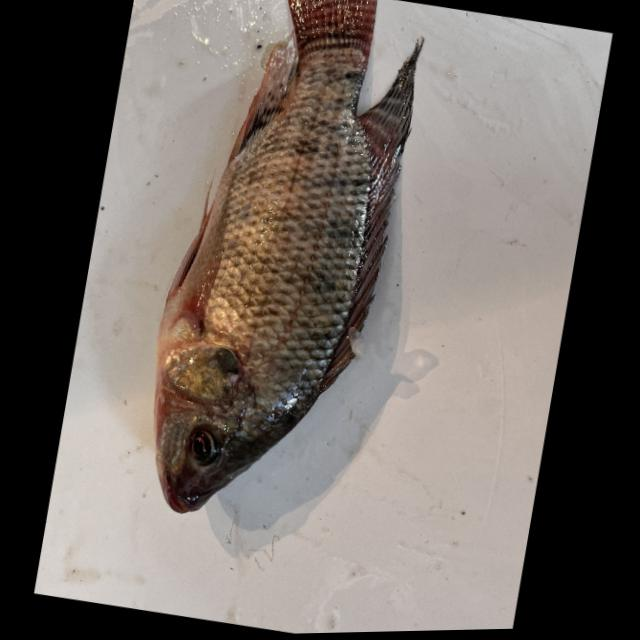Tilapia: (125, 0, 436, 538)
